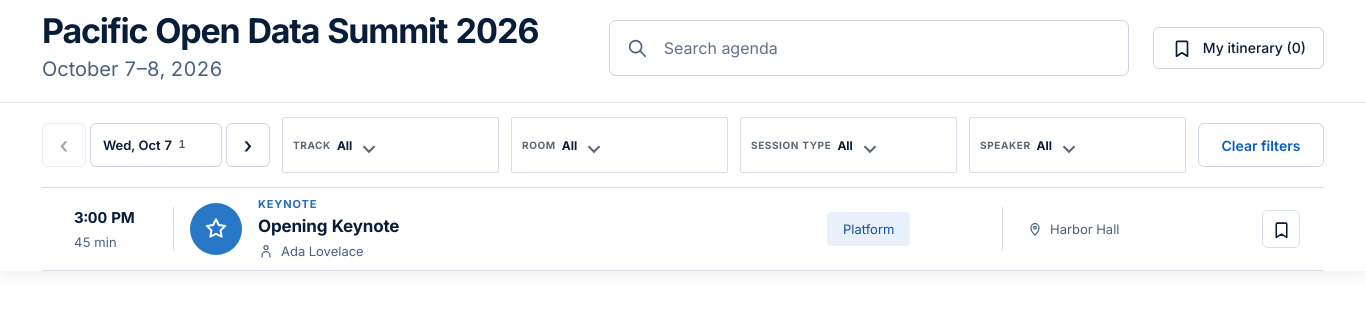
PublicProgramRenderer › renders the dedicated agenda controls and preserves itinerary/filter behavior
expect the button with aria-label "Save to itinerary" is shown: met, box [1153, 27, 1324, 69]
expect the search field labelled "Search agenda" is shown: met, box [662, 21, 1112, 75]
Click the button named "Next day".
click(248, 145)  # box [226, 123, 270, 167]
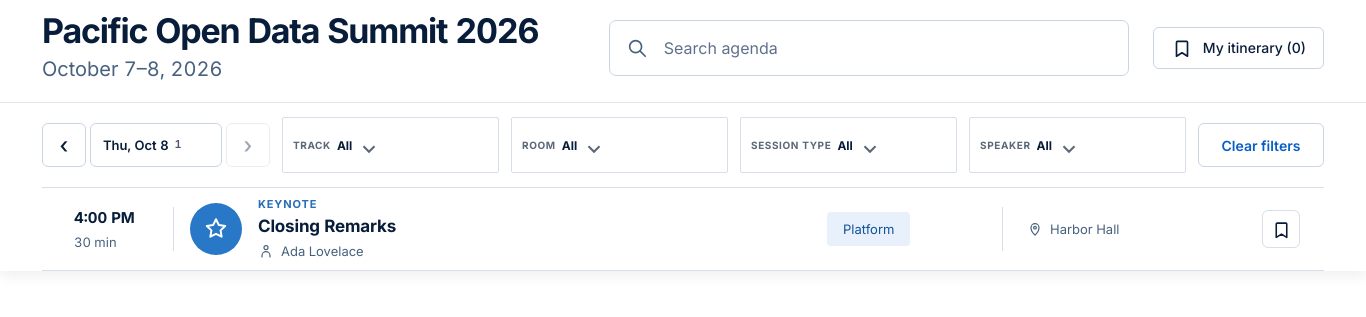
expect the button named "Previous day" is enabled: met
expect the heading "Opening Keynote" is gone: met
expect the heading "Closing Remarks" is shown: met, box [258, 216, 396, 236]
Click the button named "Previous day".
click(64, 145)  # box [42, 123, 86, 167]
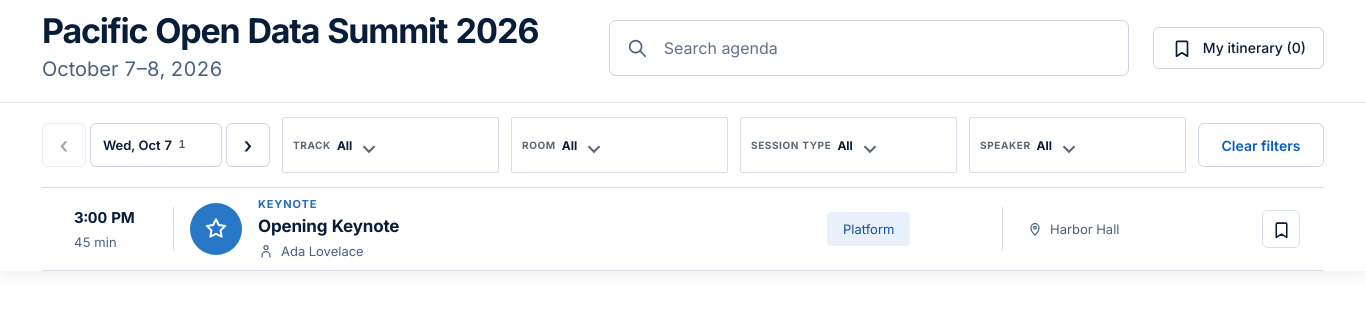
expect the heading "Opening Keynote" is shown: met, box [258, 216, 399, 236]
Click the dropdown labelled "Track".
click(390, 145)  # box [282, 117, 499, 173]
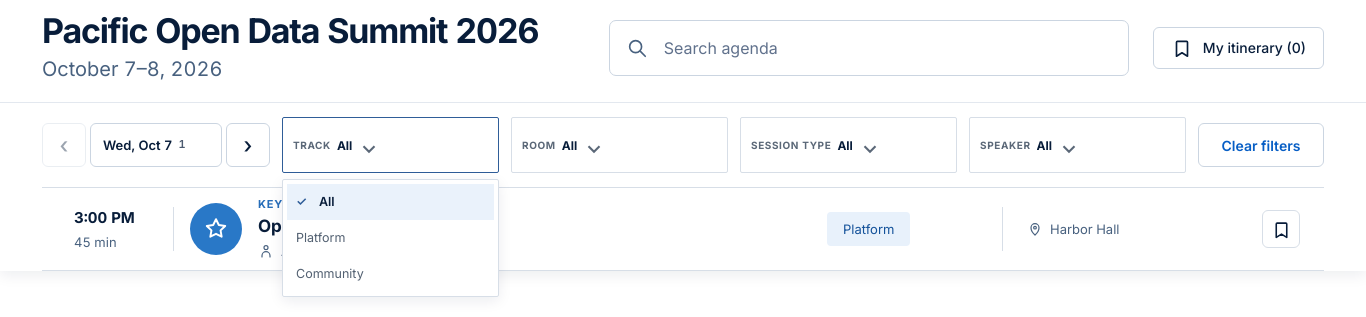
Click the option "Platform".
click(321, 237)  # box [296, 230, 345, 245]
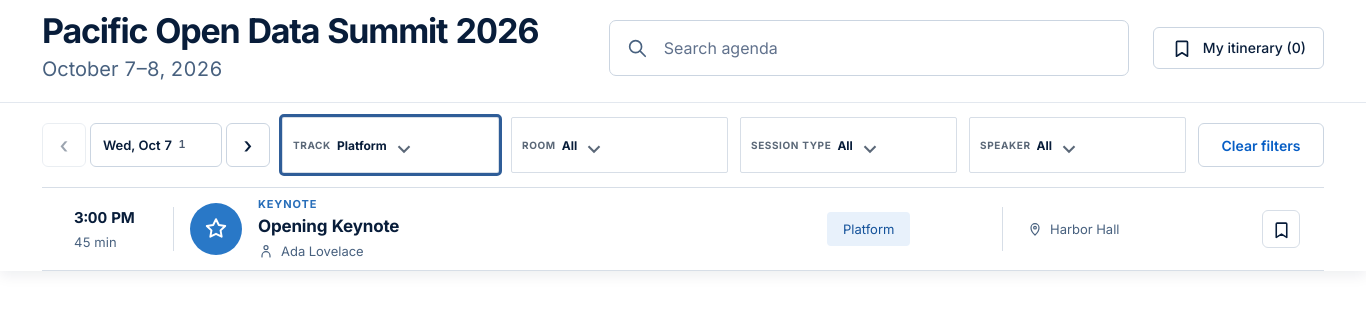
expect the heading "Opening Keynote" is shown: met, box [258, 216, 399, 236]
expect the dropdown labelled "Track" is collapsed: met, box [282, 117, 499, 173]
Click the button "Clear filters".
click(1261, 145)  # box [1198, 123, 1324, 167]
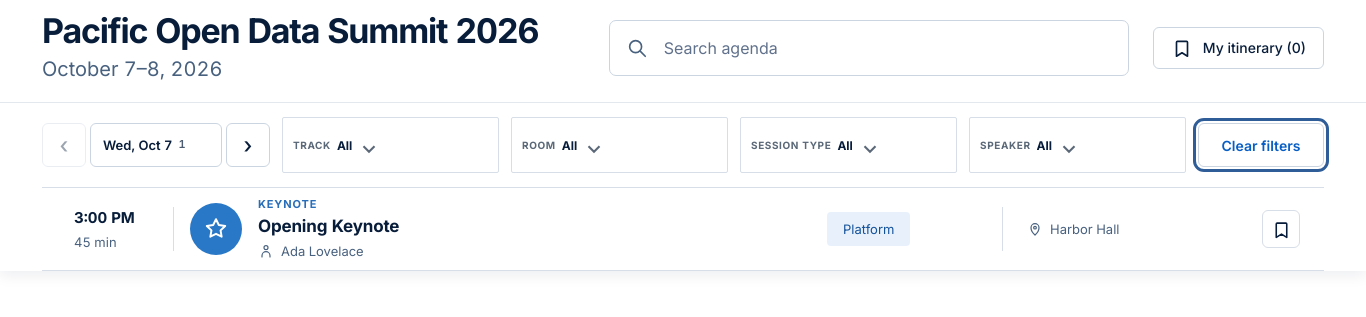
expect the heading "Opening Keynote" is shown: met, box [258, 216, 399, 236]
expect the dropdown labelled "Track" shows "All": met, box [282, 117, 499, 173]
